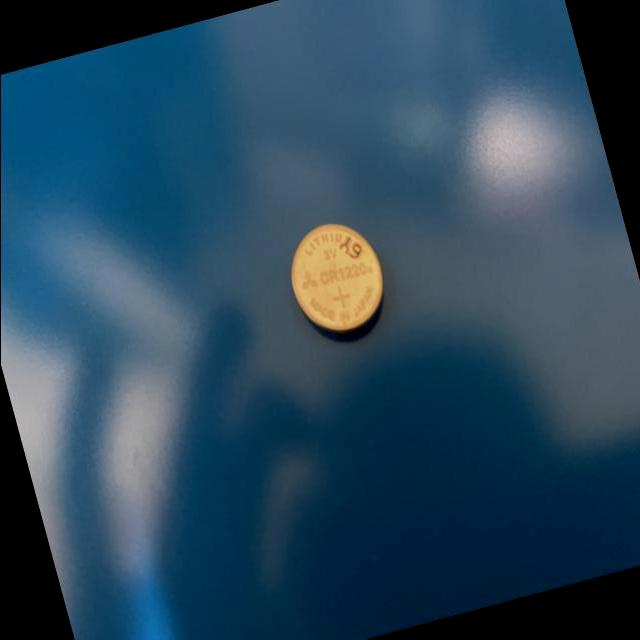COIN: (279, 212, 396, 350)
